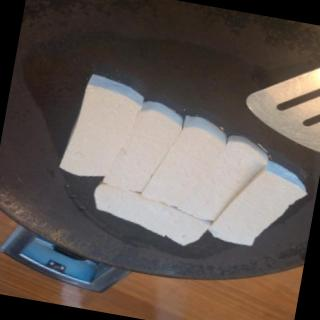Tahu: (60, 74, 307, 246)
